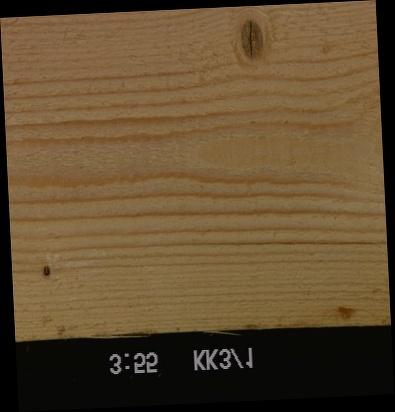dry_knot: (41, 265, 50, 277)
sound_knot: (237, 19, 264, 60)
